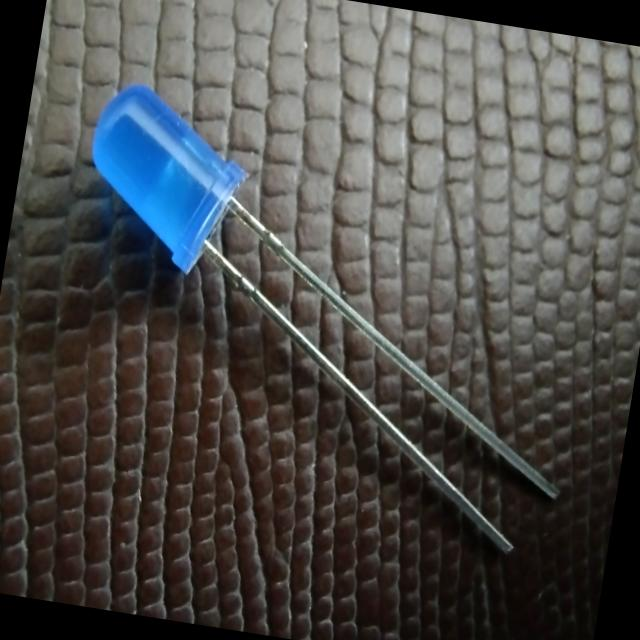blue_led: (73, 76, 261, 284)
